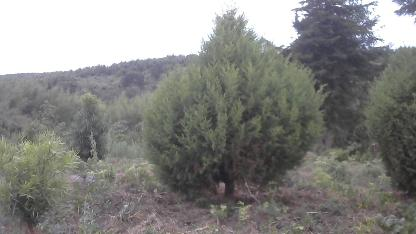tree: (140, 3, 332, 201)
